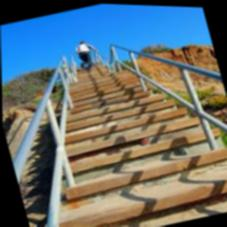Bench: (60, 62, 188, 227)
